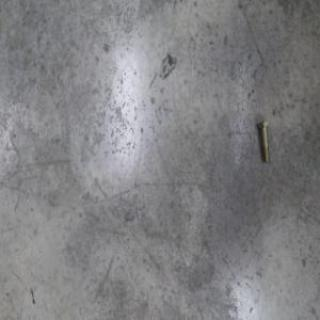Bolttrack_idkeyframe: (256, 118, 269, 163)
